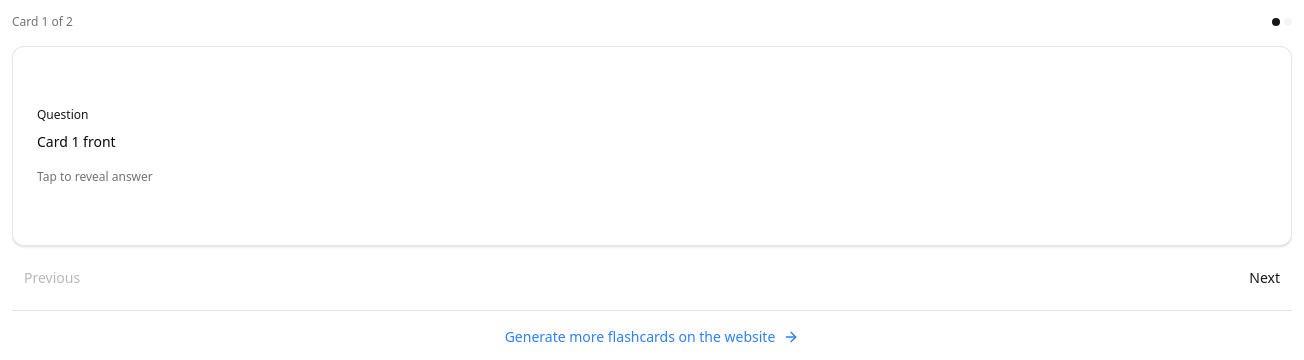
Test case: FlashcardView › navigation › resets flip state when navigating to previous card
Go to second card and flip it
Click the button "Next": (1265, 278) [1237,262,1292,294]
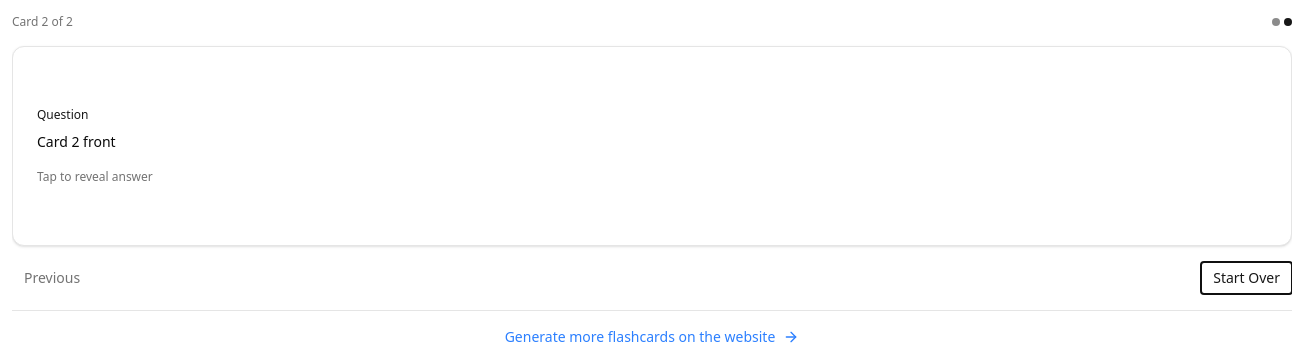
Click the button with aria-label "show answer": (652, 234) [12,46,1292,246]
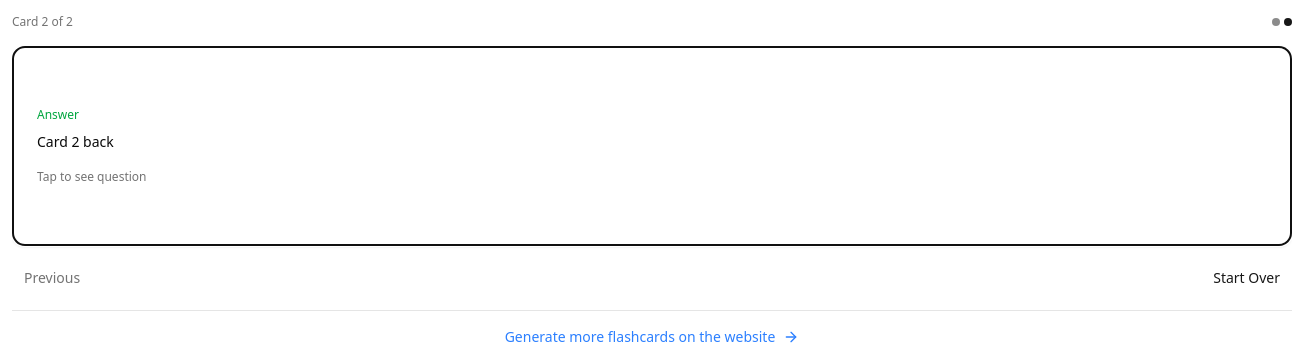
Expected: the text "Card 2 back" is shown, [37,132,114,151]
Navigate back
Click the button "Previous": (52, 278) [12,262,92,294]
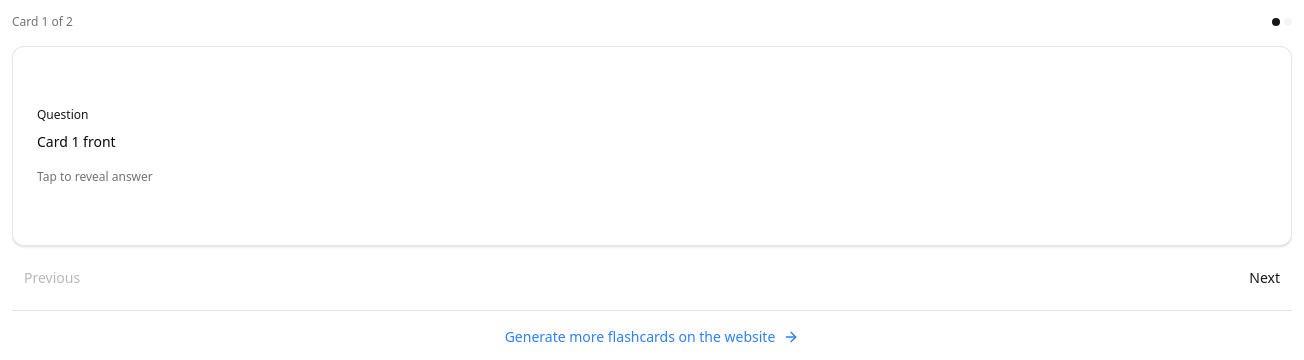
Expected: the text "Card 1 front" is shown, [37,132,116,151]
